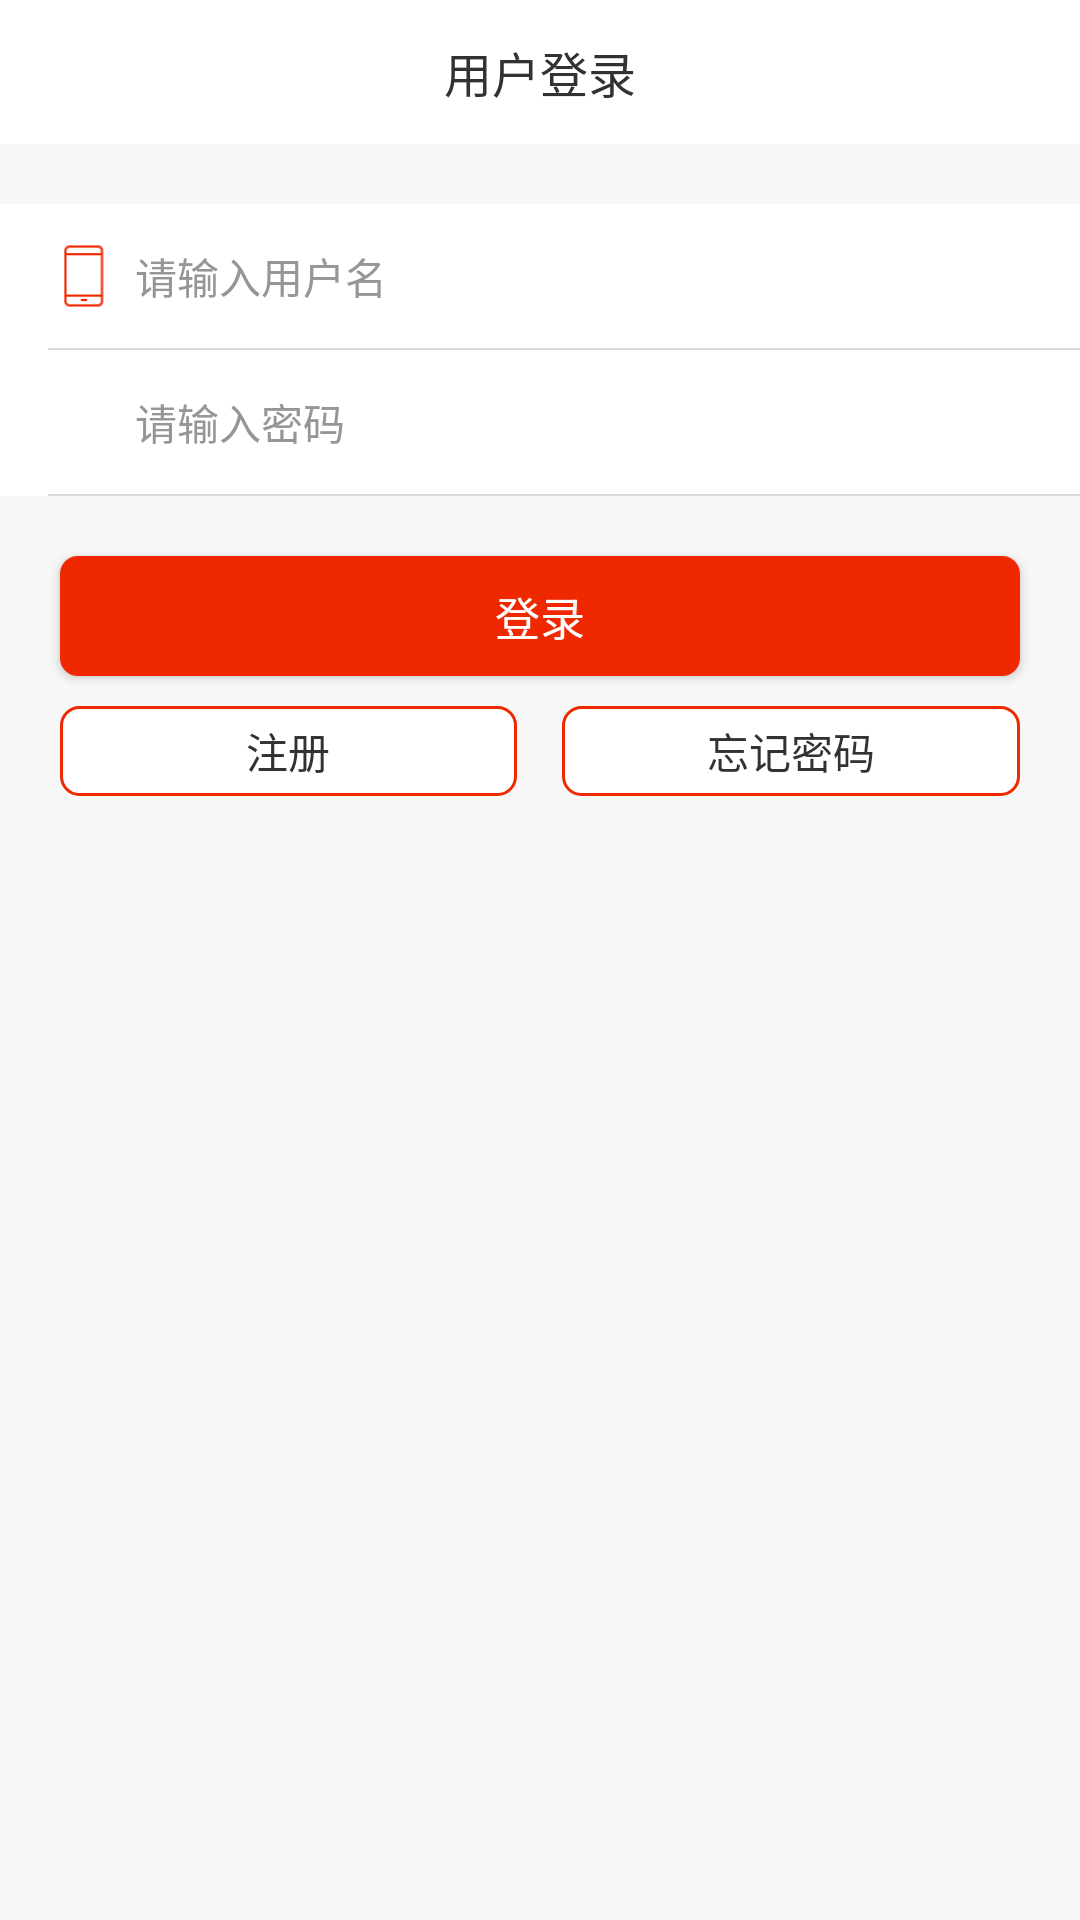

Icons on this 1080 x 1920 Android screen, each with its box as (x1, y1, x2, y2):
phone: (64, 245, 104, 307)
